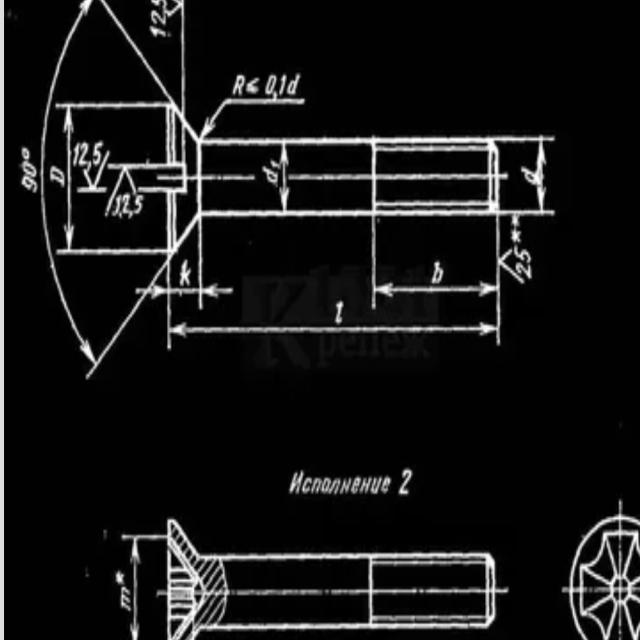marking_line: (169, 319, 498, 345), (376, 281, 498, 304), (136, 283, 237, 303), (62, 107, 74, 249), (127, 538, 143, 640), (533, 140, 550, 209), (498, 244, 518, 282)
numeric: (262, 73, 301, 101), (110, 192, 144, 223), (112, 569, 134, 615), (72, 142, 105, 169), (514, 247, 535, 283), (149, 0, 167, 39), (17, 162, 40, 192), (260, 156, 283, 186), (231, 64, 247, 100), (177, 256, 195, 284)
special_symbol: (19, 147, 32, 163)
